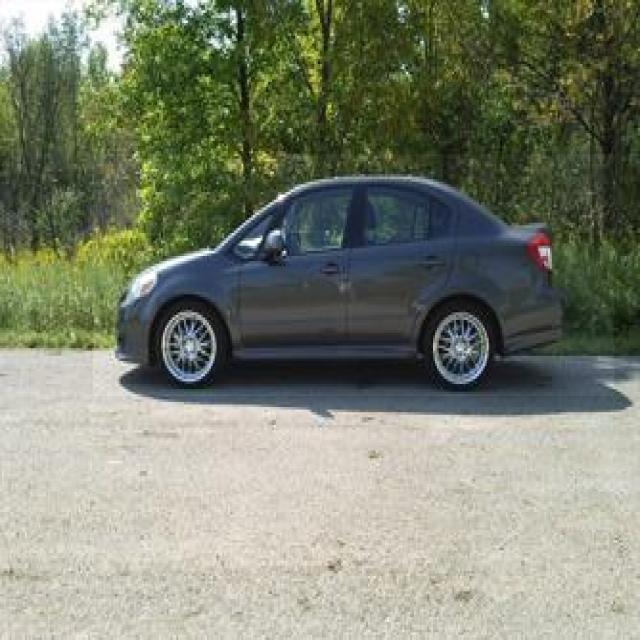Car: (93, 154, 614, 396)
